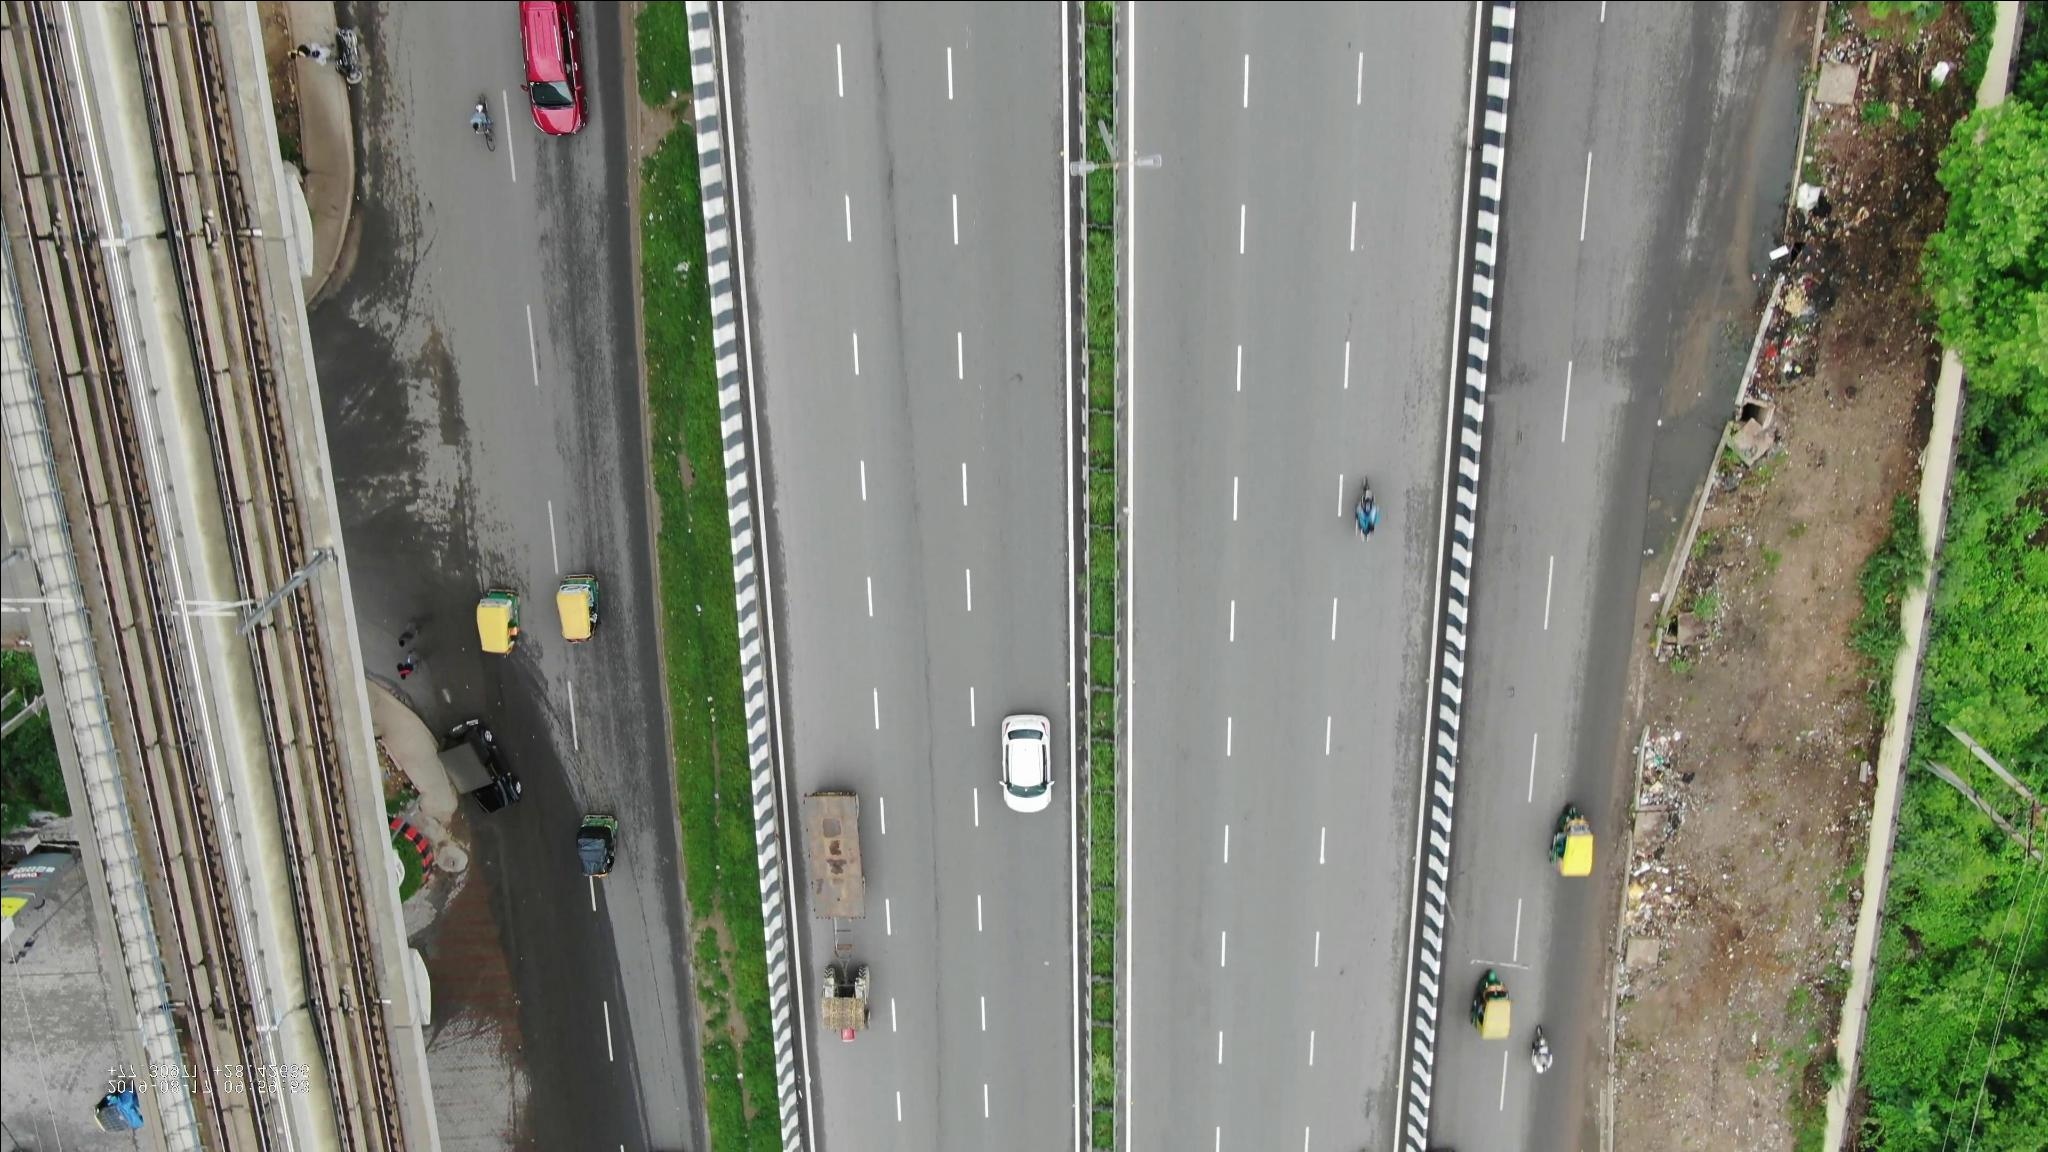Ravelling: (910, 689, 949, 1052), (871, 13, 909, 374)
Road_side_garbage: (1625, 709, 1706, 985)
Waterlogging: (509, 889, 591, 989)
